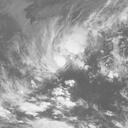cyclone: (34, 28, 81, 78)
